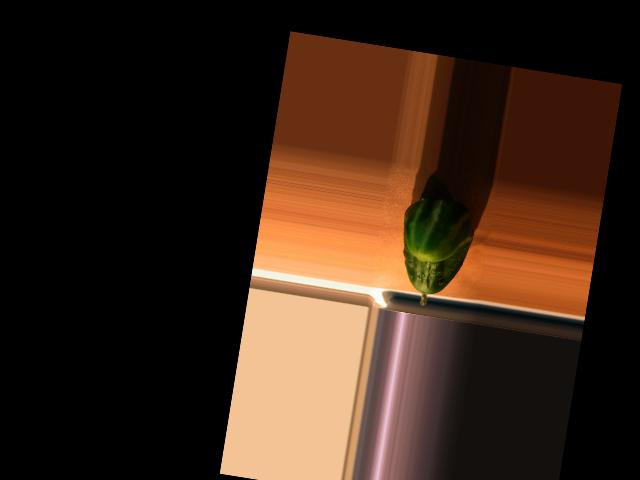cucumber: (390, 193, 477, 312)
